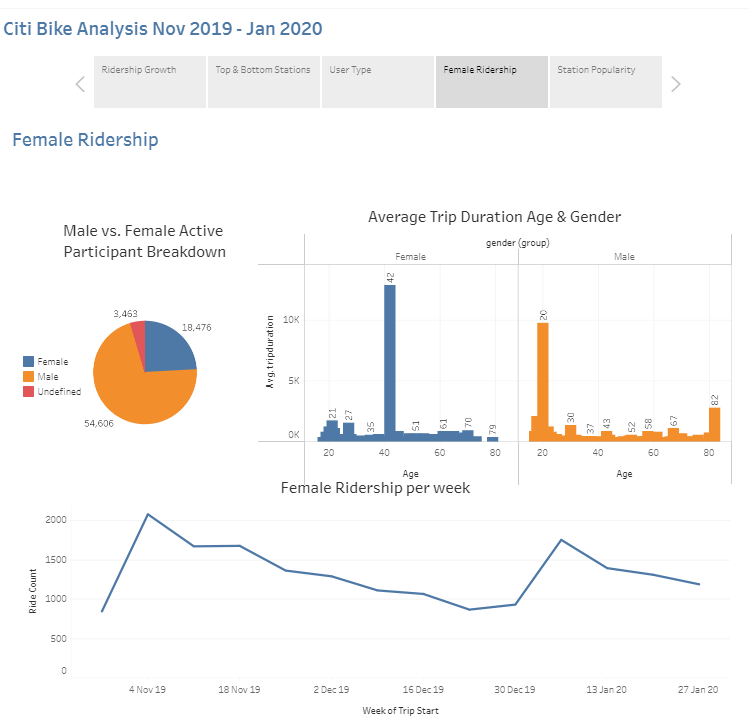

This screenshot's page, from the dashboard's own definition file:
{"tool":"tableau","page":{"name":"Female Ridership","canvas":[1000,1000],"units":"permille","ordinal":0},"visuals":[{"type":"worksheet","box":[0,0,1000,1000]},{"type":"worksheet","param":"vert","box":[5.5,9.8,988.9,980.4]},{"type":"worksheet","box":[5.5,9.8,988.9,70.9]},{"type":"worksheet","box":[5.5,80.7,988.9,909.5]},{"type":"worksheet","title":"Avg Trip Duration - Age & Gender","mark":"Bar","rows":["tripduration"],"cols":["Calculation_412923829369049091"],"box":[340,140.6,632.2,463.3]},{"type":"worksheet","title":"Male vs. Female Active Participant Breakdown","mark":"Pie","box":[36.1,162.6,306,426.7]},{"type":"worksheet","title":"Male vs. Female Active Participant Breakdown","mark":"Pie","param":"[federated.0e4tk9l00upwaq14i1hmy0mif4b7].[gender (group)]","box":[23.6,390,256.1,139.4]},{"type":"worksheet","title":"Female Ridership Increase","mark":"Automatic","rows":["_57B5E63297B8400FB06C19BAD6663A0C"],"cols":["starttime"],"box":[24.3,584.4,945.2,405.9]}]}

Visuals, with their boxes on the dashboard's canvas, which has no fixed pixel size, in thousandths of its width and height (x1, y1, x2, y2). These are canvas units, not pixel positions in the 749x719 screenshot, which may show the page scaled, cropped or inside an application window:
worksheet: 0, 0, 1000, 1000
worksheet: 6, 10, 994, 990
worksheet: 6, 10, 994, 81
worksheet: 6, 81, 994, 990
"Avg Trip Duration - Age & Gender" worksheet (Bar marks): 340, 141, 972, 604
"Male vs. Female Active Participant Breakdown" worksheet (Pie marks): 36, 163, 342, 589
"Male vs. Female Active Participant Breakdown" worksheet (Pie marks): 24, 390, 280, 529
"Female Ridership Increase" worksheet: 24, 584, 970, 990
